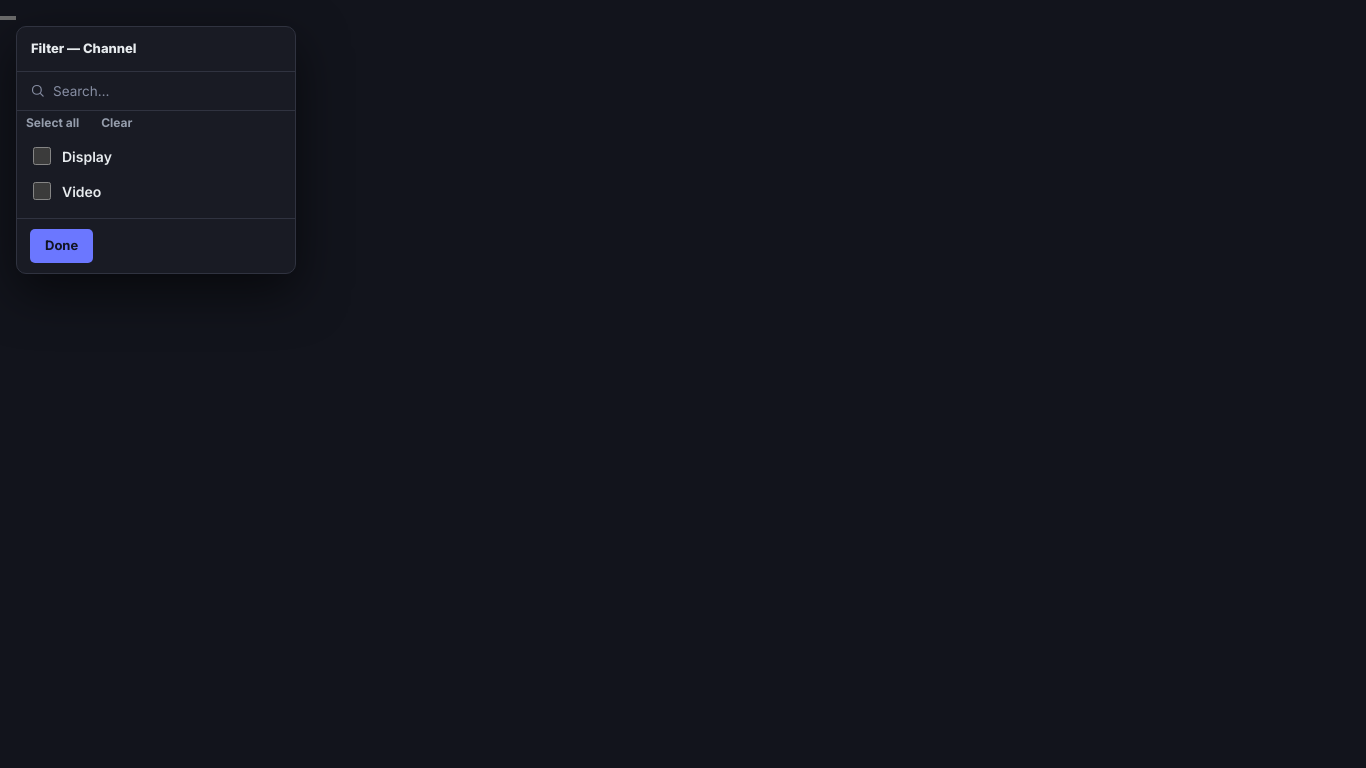
Test: DataTableValueFilterPopover › should say so when the search matches nothing
The width and height of the screenshot is (1366, 768).
Note: that is typed into the search
Type "zz" into the field named "Search channel values".
click(168, 91); type("zz")  # box [53, 80, 282, 101]
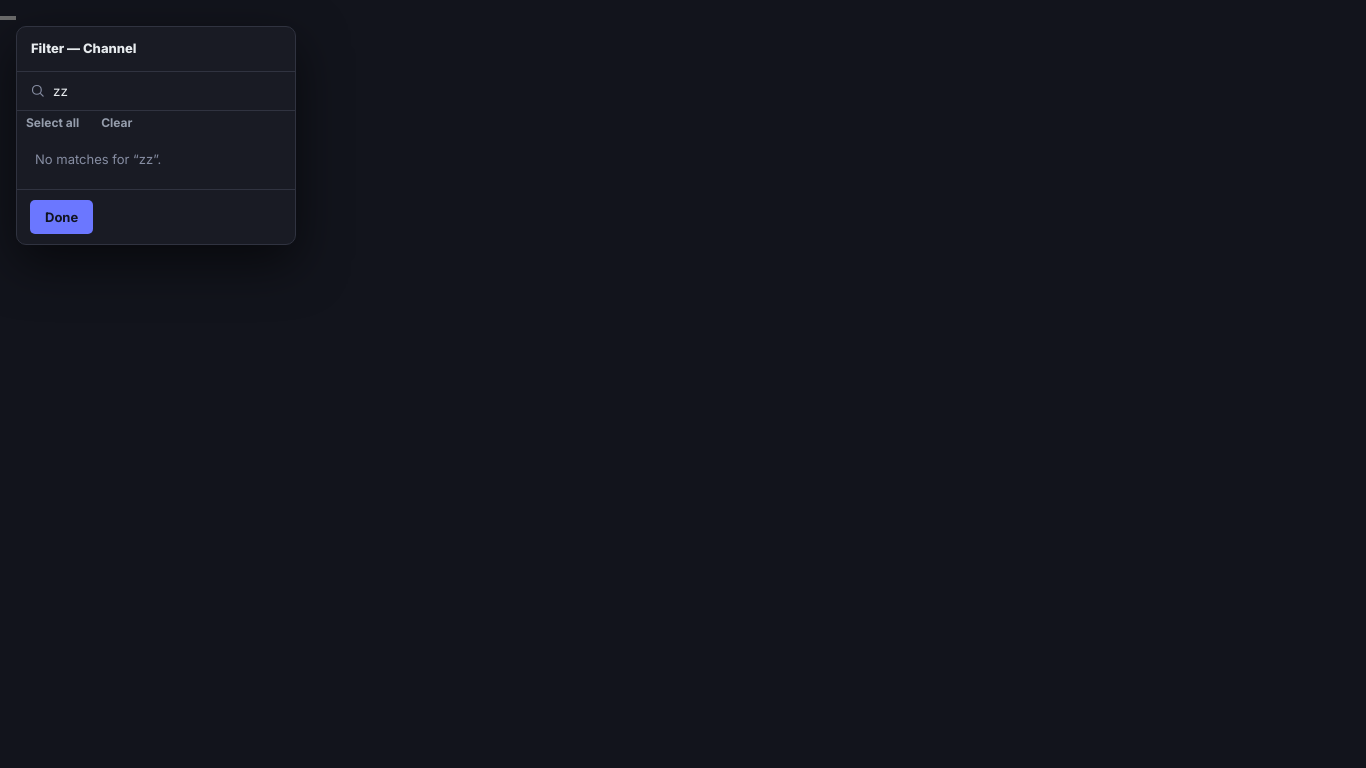
Expected: the text "No matches for “zz”." is shown, [35, 151, 161, 167]
